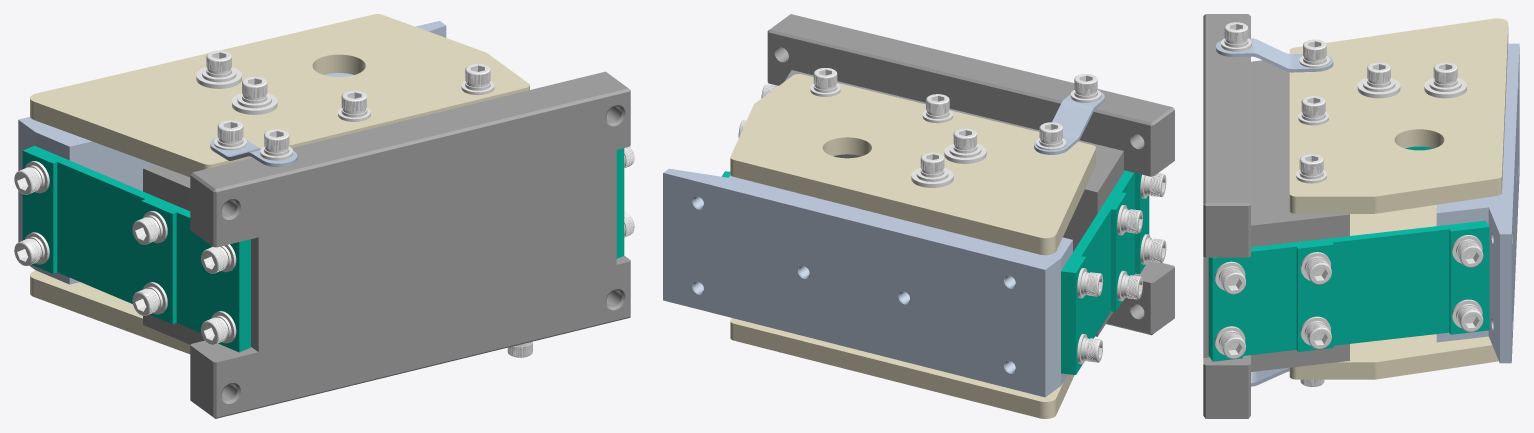
The model's file is fail2.glb.
3 views of the same model, side by side, from view 1: azimuth 30°, elevation 25°; view 2: azimuth 150°, elevation 25°; view 3: azimuth 270°, elevation 25° (orthographic). The views are drawn at different scales.
Visible parts, largest first — view 1: Node12, Node9, Node11, Node10, Node7, Node6, Node3, Node8, Node5; view 2: Node10, Node9, Node12, Node11, Node6, Node3, Node7, Node8, Node5; view 3: Node9, Node11, Node12, Node10, Node6, Node4, Node3, Node5, Node1, Node8.
Boxes of the visible parts, x1,y1,x2,y2 form: Node12: (143,71,630,418); Node9: (30,14,529,354); Node11: (22,145,624,352); Node10: (18,21,446,284); Node7: (132,215,236,344); Node6: (196,50,370,160); Node3: (214,76,532,357); Node8: (14,63,494,244); Node5: (14,232,162,315); Node10: (663,92,1104,397); Node9: (730,74,1095,418); Node12: (767,14,1174,336); Node11: (722,170,1149,374); Node6: (911,74,1101,187); Node3: (926,94,1066,163); Node7: (1117,173,1166,301); Node8: (810,68,1139,298); Node5: (1077,275,1142,364); Node9: (1289,18,1508,379); Node11: (1208,146,1489,361); Node12: (1203,14,1349,418); Node10: (1216,38,1519,386); Node6: (1221,22,1483,266); Node4: (1215,241,1483,358); Node3: (1299,39,1400,121); Node5: (1304,299,1483,343); Node1: (1300,252,1331,284); Node8: (1296,154,1326,183).
Size of the model in its own units: 222 by 121 by 133.
